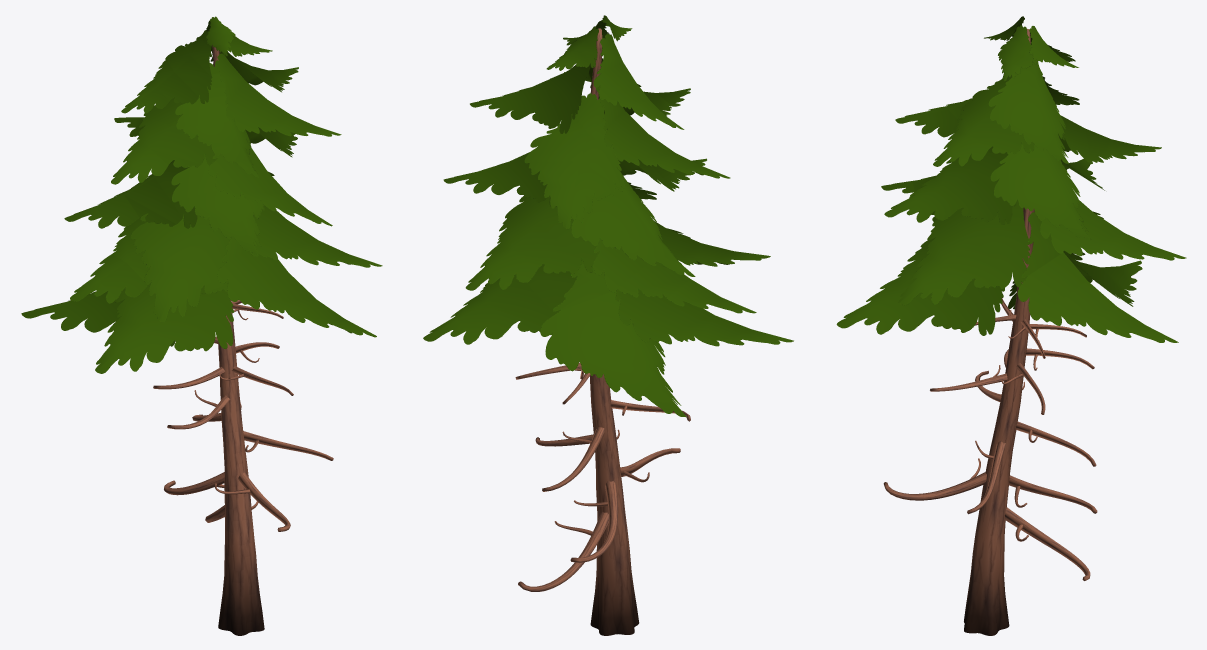
Rendered from Pine_3.gltf.
The picture shows the model from 3 angles, left to right: view 1: azimuth 30°, elevation 25°; view 2: azimuth 150°, elevation 25°; view 3: azimuth 270°, elevation 25°; orthographic projection. The views are drawn at different scales.
Visible parts, largest first — view 1: Pine_3; view 2: Pine_3; view 3: Pine_3.
Boxes of the visible parts, left/top/right/bottom form: Pine_3: left=21, top=16, right=382, bottom=635; Pine_3: left=423, top=15, right=793, bottom=635; Pine_3: left=836, top=16, right=1186, bottom=635.
Bounding box in the file's own units: 3.61 × 7.39 × 4.
Materials: 2 (2 with a texture image).
